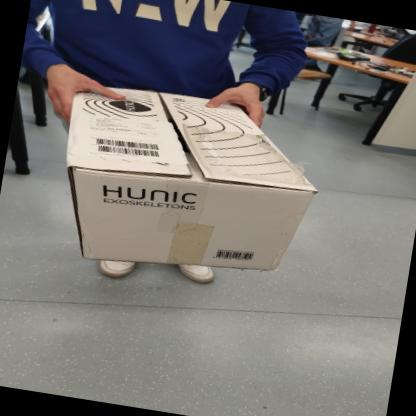box: (32, 61, 332, 306)
